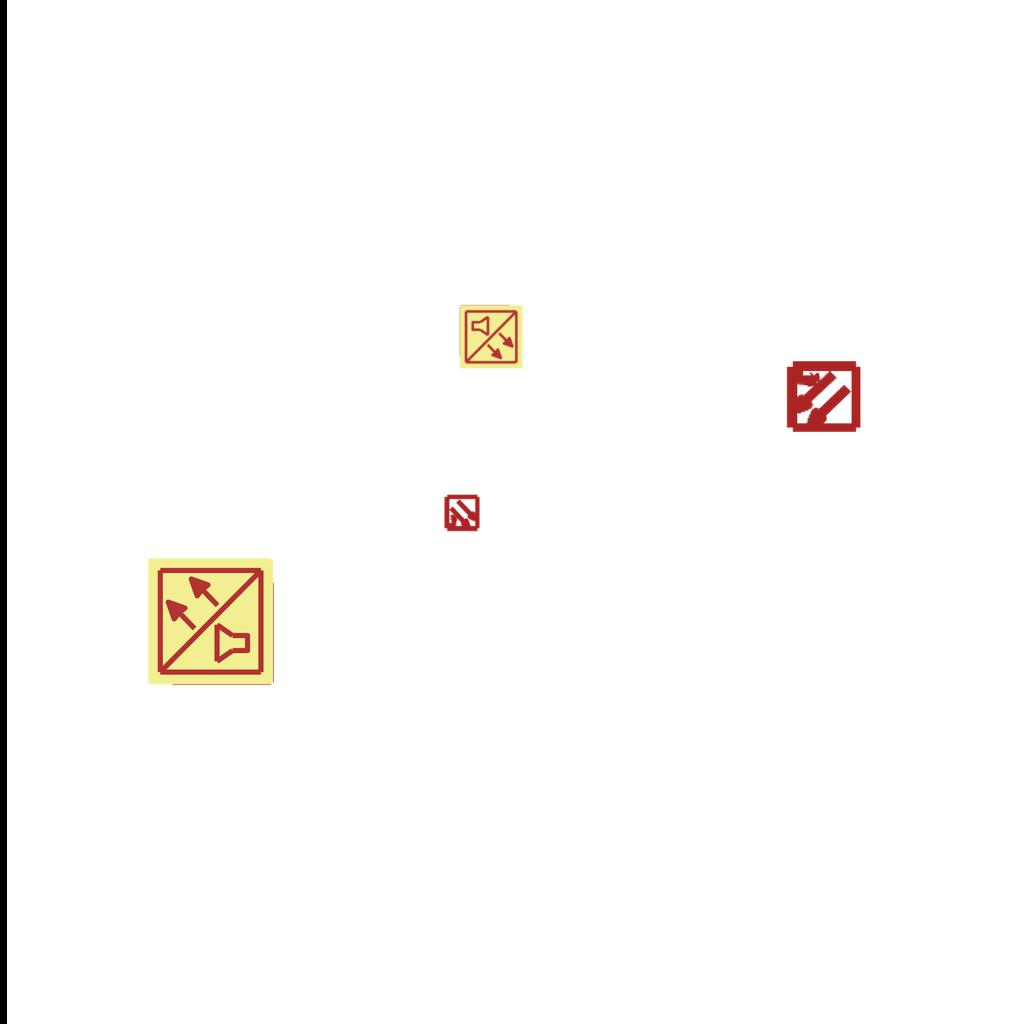OKW_Multisensormelder_(Kombination_optischer_Rauch-Kahlenmonoxid_Waerme-Melder): (145, 555, 277, 687), (458, 304, 524, 370)
OT_Multisensormelder_(Kombination_RMO_WMD): (765, 340, 878, 453), (434, 486, 490, 542)
